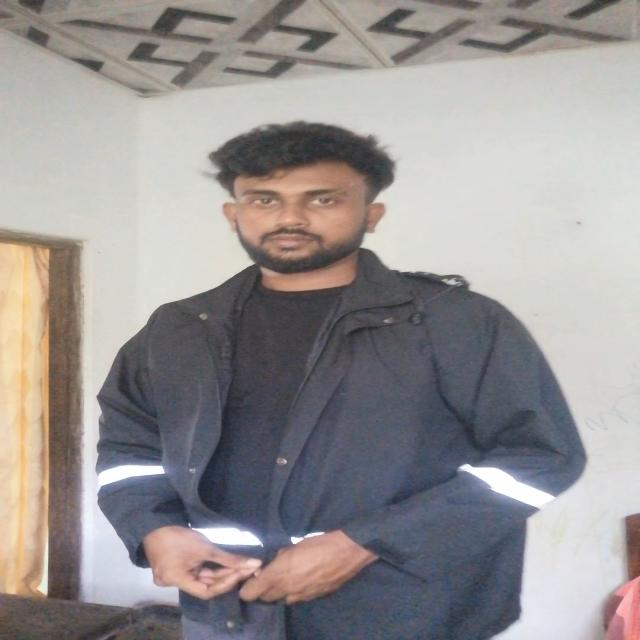Jacket_Wearer: (97, 248, 590, 640)
